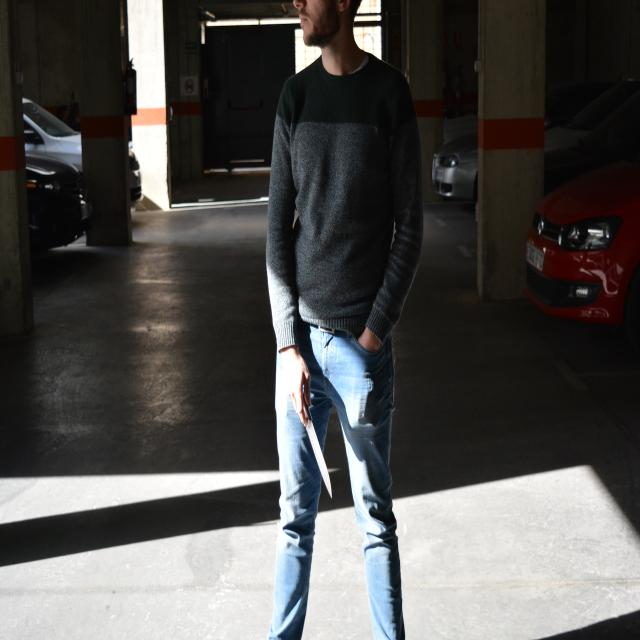knife: (304, 398, 335, 507)
